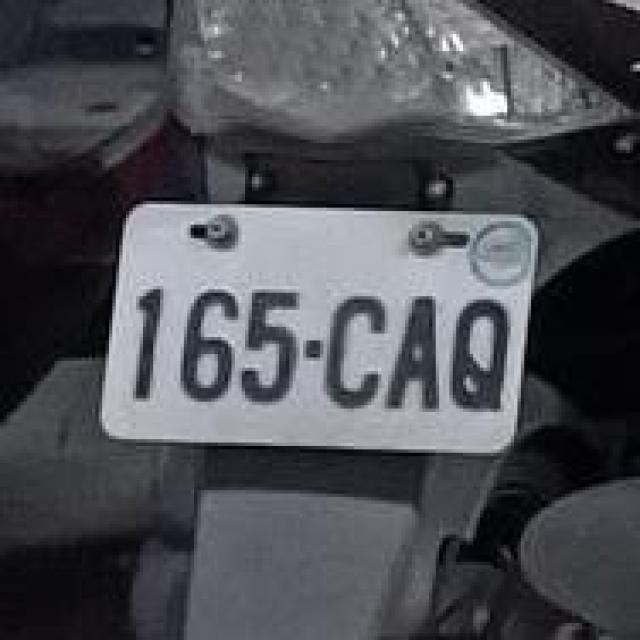W: (88, 184, 544, 466)
